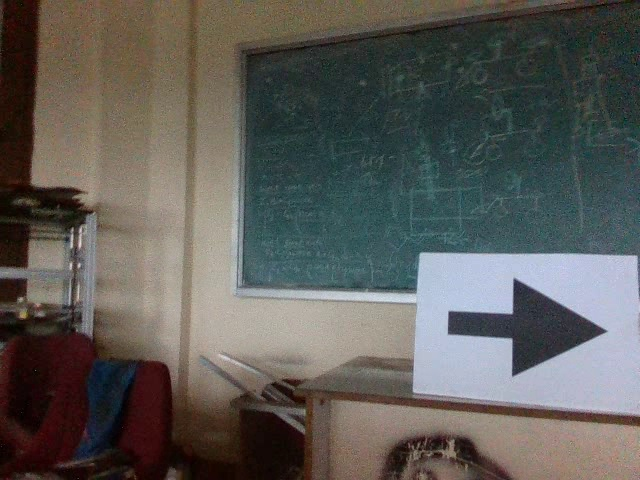Right: (441, 271, 609, 384)
